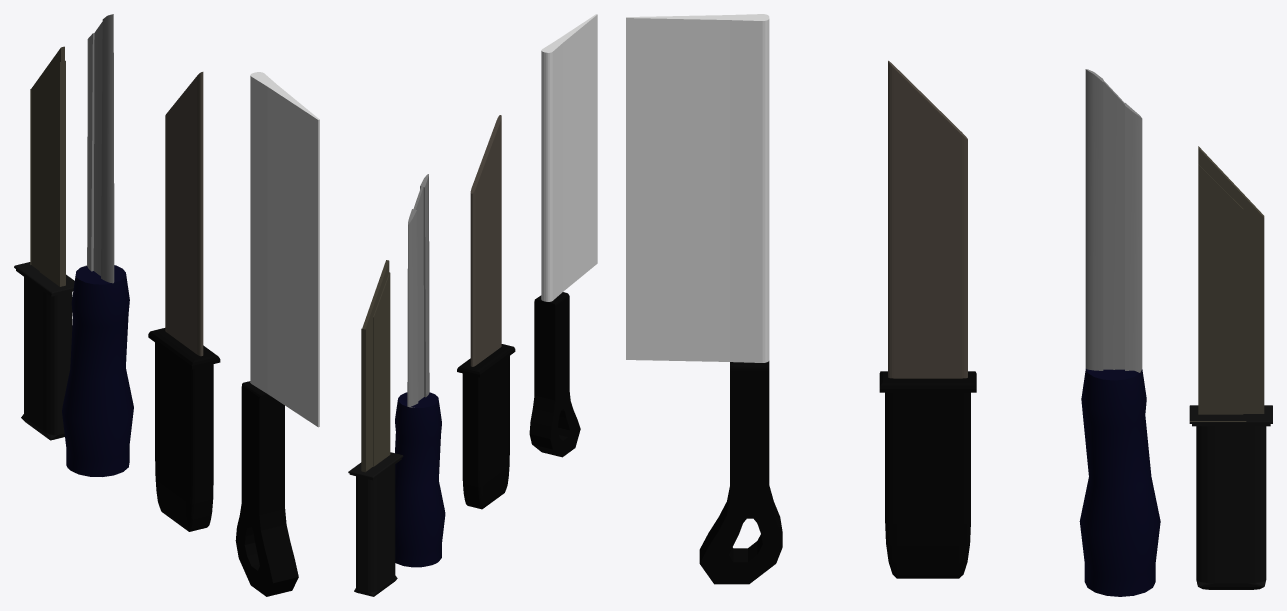
File: knife.glb
The picture shows the model from 3 angles, left to right: view 1: azimuth 30°, elevation 25°; view 2: azimuth 150°, elevation 25°; view 3: azimuth 270°, elevation 25°; orthographic projection. The views are drawn at different scales.
Parts seen in each view (by area): view 1: knife4, knife3, knife2, knife1; view 2: knife4, knife3, knife2, knife1; view 3: knife4, knife3, knife2, knife1.
Boxes of the visible parts, box(x1,y1,x2,y2) form: knife4: box(235, 72, 319, 596); knife3: box(148, 72, 220, 531); knife2: box(62, 14, 133, 476); knife1: box(14, 46, 74, 440); knife4: box(529, 14, 597, 457); knife3: box(457, 115, 515, 509); knife2: box(395, 174, 445, 567); knife1: box(348, 260, 403, 596); knife4: box(626, 14, 782, 584); knife3: box(879, 60, 976, 578); knife2: box(1079, 69, 1160, 596); knife1: box(1189, 146, 1272, 589).
Bounding box in the file's own units: 0.0254 × 0.1971 × 0.2033.
